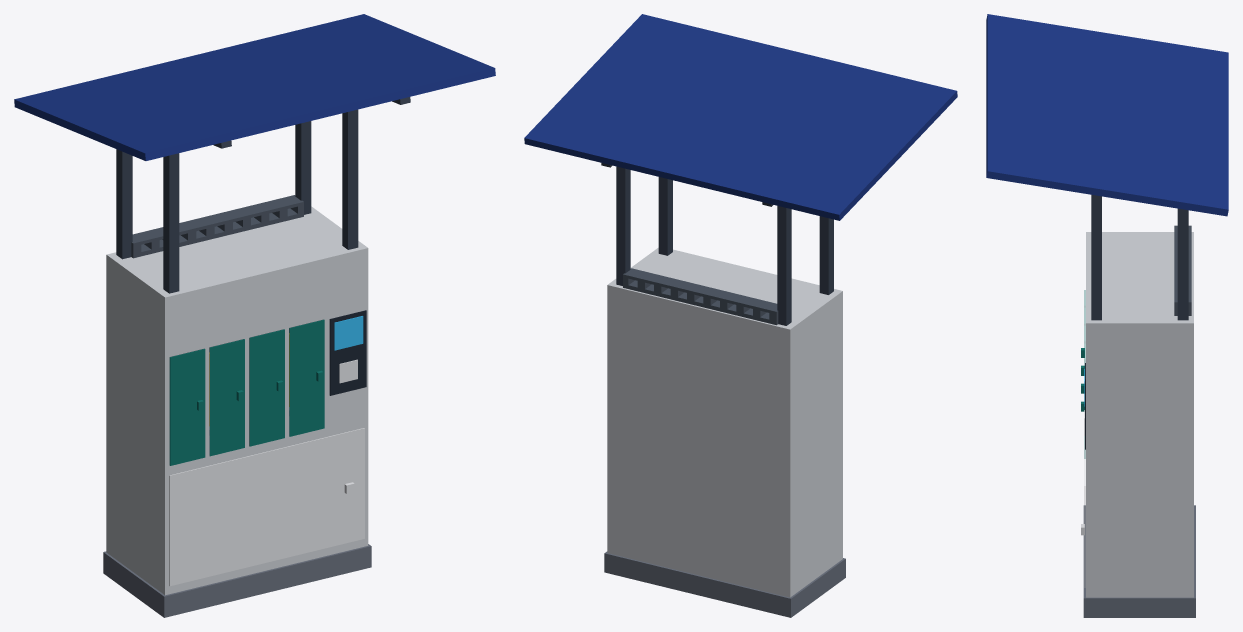
3 views of the same model, side by side, from view 1: azimuth 30°, elevation 25°; view 2: azimuth 150°, elevation 25°; view 3: azimuth 270°, elevation 25° (orthographic). The views are drawn at different scales.
Parts seen in each view (by area): view 1: Cabinet body, galvanized steel, Solar panel, 400 W, Service door, Bay doors with solenoid locks (4), Canopy frame, Plinth and anchor frame, Vent plenum and roof exhaust louver, Access panel (NFC reader, display), Display; view 2: Cabinet body, galvanized steel, Solar panel, 400 W, Canopy frame, Plinth and anchor frame, Vent plenum and roof exhaust louver; view 3: Solar panel, 400 W, Cabinet body, galvanized steel, Plinth and anchor frame, Canopy frame, Vent plenum and roof exhaust louver.
Part boxes in pixels (<box>): Cabinet body, galvanized steel: <box>106,206,368,595</box>; Solar panel, 400 W: <box>14,14,495,160</box>; Service door: <box>169,428,364,586</box>; Bay doors with solenoid locks (4): <box>169,319,324,465</box>; Canopy frame: <box>116,97,410,293</box>; Plinth and anchor frame: <box>103,544,371,617</box>; Vent plenum and roof exhaust louver: <box>131,195,303,258</box>; Access panel (NFC reader, display): <box>329,310,366,395</box>; Display: <box>334,316,363,350</box>; Cabinet body, galvanized steel: <box>607,247,842,597</box>; Solar panel, 400 W: <box>524,14,957,220</box>; Canopy frame: <box>601,163,833,325</box>; Plinth and anchor frame: <box>604,551,845,617</box>; Vent plenum and roof exhaust louver: <box>623,268,778,325</box>; Solar panel, 400 W: <box>986,14,1228,216</box>; Cabinet body, galvanized steel: <box>1086,232,1193,597</box>; Plinth and anchor frame: <box>1083,505,1195,617</box>; Canopy frame: <box>1091,195,1188,320</box>; Vent plenum and roof exhaust louver: <box>1174,225,1191,315</box>.
Size of the model in its own units: 1.72 by 2.45 by 1.12.
